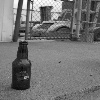beer: (7, 41, 32, 89)
